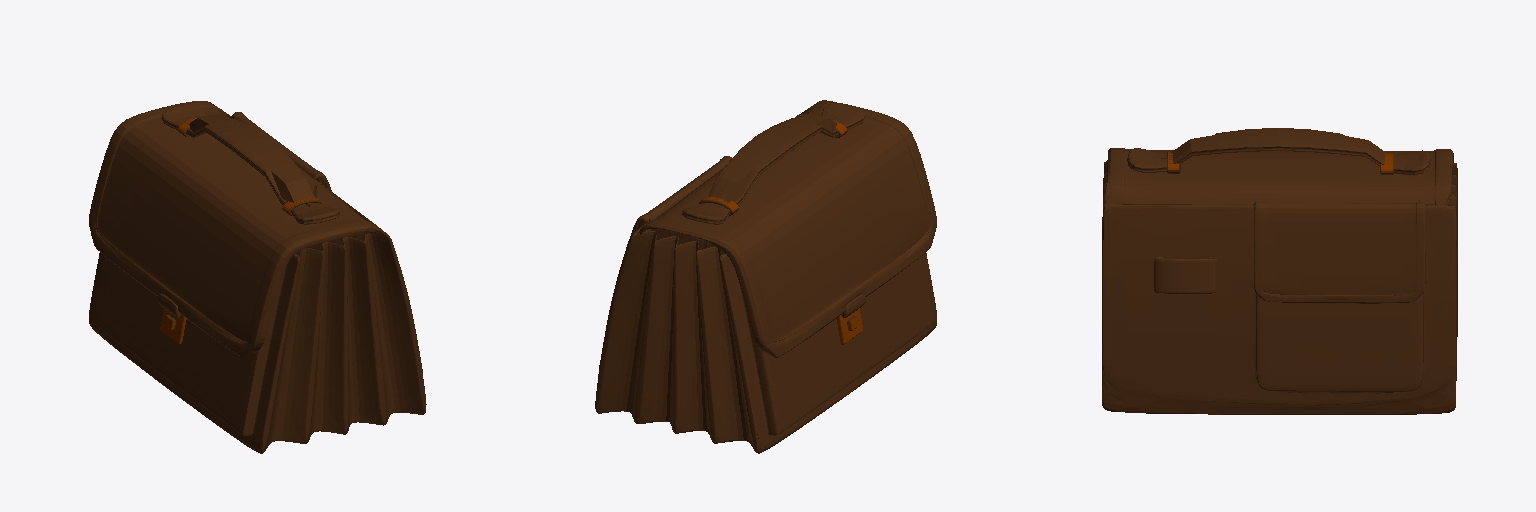
The model's file is small_bag_beige.obj.
3 renders of one model, left to right at view 1: azimuth 30°, elevation 25°; view 2: azimuth 150°, elevation 25°; view 3: azimuth 270°, elevation 25°, orthographic.
Visible parts, largest first — view 1: Object01.001; view 2: Object01.001; view 3: Object01.001.
Part boxes in pixels (bbox=[...]): Object01.001: bbox=[89, 101, 426, 453]; Object01.001: bbox=[595, 100, 936, 453]; Object01.001: bbox=[1102, 128, 1457, 414].
Size of the model in its own units: 0.0097 by 0.0119 by 0.0163.